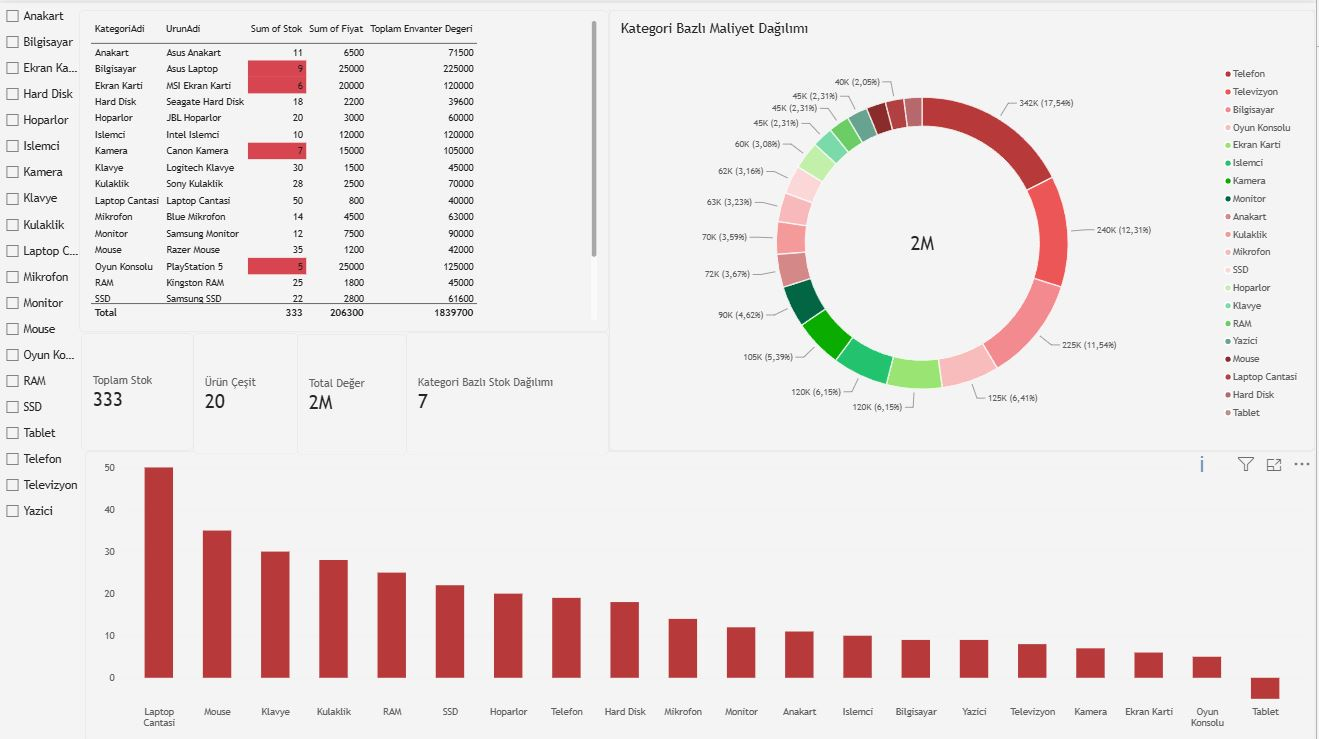

The dashboard page shown, as its layout file describes it:
{"tool":"powerbi","page":{"name":"Envanter Özet","canvas":[1920,1080],"ordinal":0},"visuals":[{"type":"slicer","fields":{"Values":["Kategoriler.KategoriAdi"]},"box":[1.5,0,113.8,1075.3],"z":0},{"type":"clusteredColumnChart","fields":{"Category":["Kategoriler.KategoriAdi"],"Y":["Sum(Urunler.Stok)"]},"box":[124,653.6,1794.5,424.6],"z":1000},{"type":"cardVisual","fields":{"Data":["Sum(Urunler.Stok)"]},"box":[118.2,481.5,164.9,172.2],"z":2000},{"type":"cardVisual","fields":{"Data":["CountNonNull(Urunler.UrunID)"]},"box":[281.6,481.5,154.7,178],"z":3000},{"type":"cardVisual","fields":{"Data":["Urunler.Kritik Stok Urun Sayisi"]},"box":[592.3,480,296.2,180.9],"z":4000},{"type":"cardVisual","fields":{"Data":["Urunler.Toplam Envanter Degeri"]},"box":[433.3,482.9,160.5,178],"z":5000},{"type":"tableEx","fields":{"Values":["Kategoriler.KategoriAdi","Urunler.UrunAdi","Sum(Urunler.Stok)","Sum(Urunler.Fiyat)","Urunler.Toplam Envanter Degeri"]},"box":[115.3,10.2,773.3,469.8],"z":6000},{"type":"donutChart","title":"Kategori Bazlı Maliyet Dağılımı","fields":{"Category":["Kategoriler.KategoriAdi"],"Y":["Urunler.Toplam Envanter Degeri"]},"box":[888.5,10.2,1030,643.4],"z":7000}]}

Visuals, with their boxes on the page's 1920x1080 design canvas (x1, y1, x2, y2). These are canvas units, not pixel positions in the 1319x739 screenshot, which may show the page scaled, cropped or inside an application window:
slicer - Kategoriler.KategoriAdi: 2 0 115 1075
clusteredColumnChart - Kategoriler.KategoriAdi x Sum(Urunler.Stok): 124 654 1918 1078
cardVisual - Sum(Urunler.Stok): 118 482 283 654
cardVisual - CountNonNull(Urunler.UrunID): 282 482 436 660
cardVisual - Urunler.Kritik Stok Urun Sayisi: 592 480 888 661
cardVisual - Urunler.Toplam Envanter Degeri: 433 483 594 661
tableEx - Kategoriler.KategoriAdi x Urunler.UrunAdi: 115 10 889 480
"Kategori Bazlı Maliyet Dağılımı" donutChart: 888 10 1918 654
